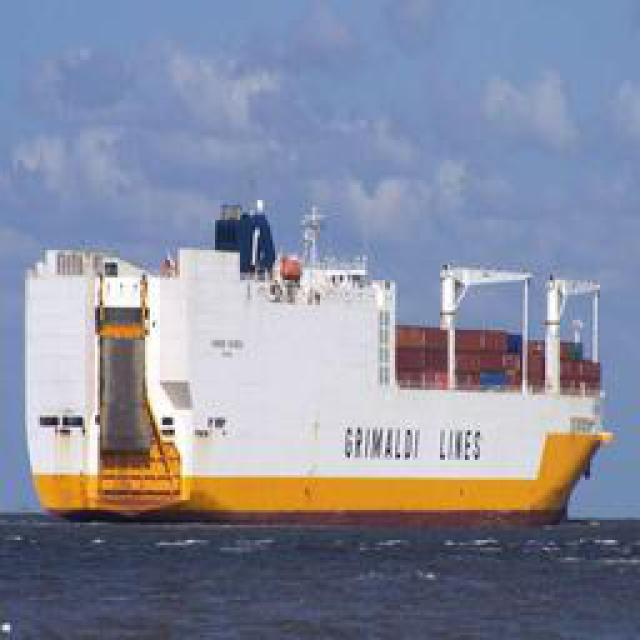Ship: (33, 233, 618, 531)
